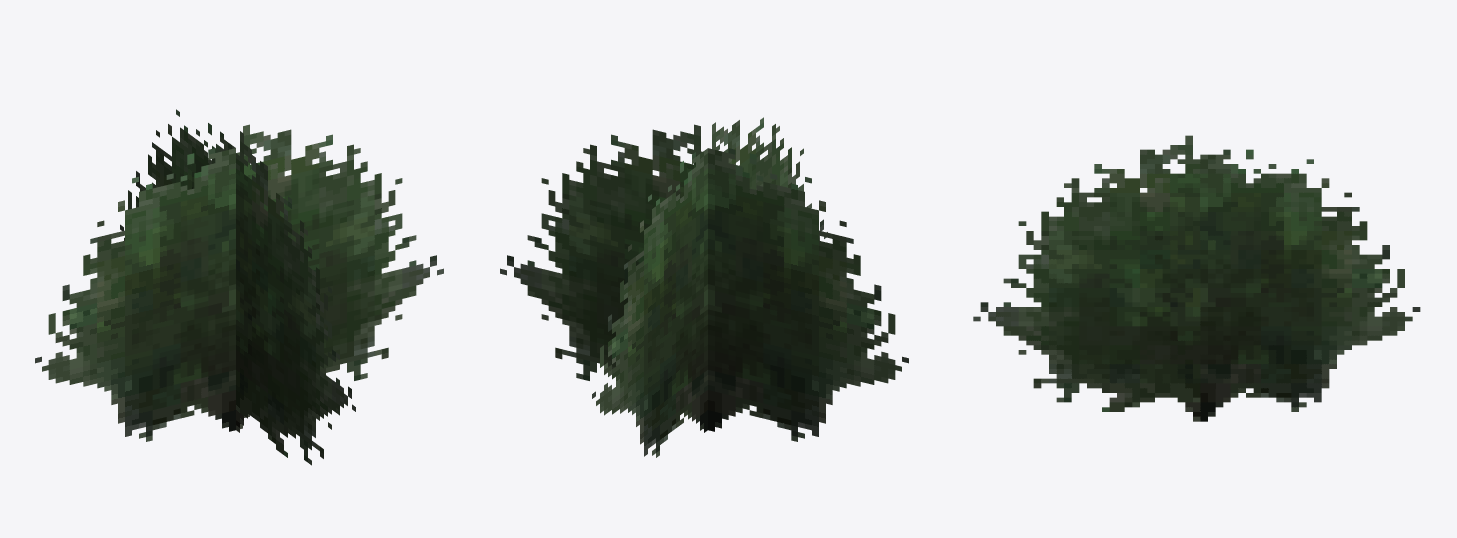
File: shrb_leafy_full_green_l1.fbx
3 renders of one model, left to right at view 1: azimuth 30°, elevation 25°; view 2: azimuth 150°, elevation 25°; view 3: azimuth 270°, elevation 25°, orthographic. The views are drawn at different scales.
Visible parts, largest first — view 1: mesh_node; view 2: mesh_node; view 3: mesh_node.
Part boxes in pixels (bbox=[...]): mesh_node: bbox=[35, 109, 443, 465]; mesh_node: bbox=[500, 117, 908, 457]; mesh_node: bbox=[973, 135, 1420, 421].
Size of the model in its own units: 1.45 by 1.01 by 1.45.
1 material, 1 textured.
